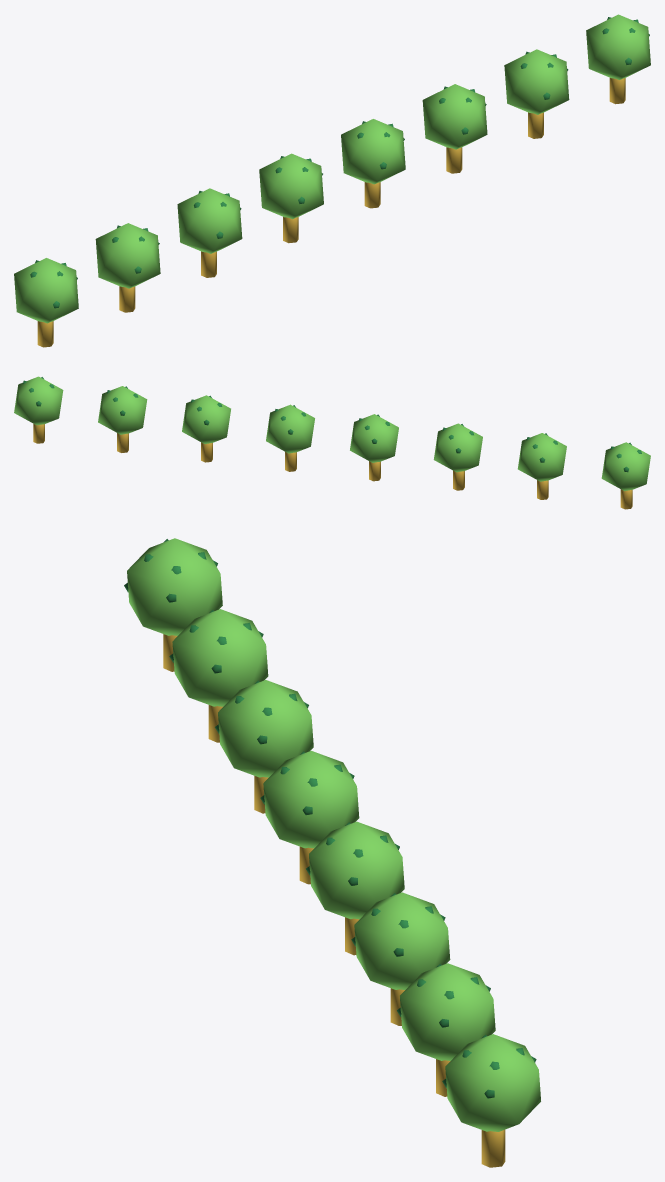
Rendered from 016_イチョウ004.glb.
3 views of the same model, one above another, from view 1: azimuth 30°, elevation 25°; view 2: azimuth 150°, elevation 25°; view 3: azimuth 270°, elevation 25° (orthographic). The views are drawn at different scales.
Parts seen in each view (by area): view 1: 球004_2, 球004, 球004_1; view 2: 球004_2, 球004, 球004_1; view 3: 球004_2, 球004, 球004_1.
Boxes of the visible parts, x1,y1,x2,y2 form: 球004_2: (14, 14, 650, 323); 球004: (37, 78, 625, 347); 球004_1: (30, 17, 649, 308); 球004_2: (14, 376, 650, 491); 球004: (33, 424, 632, 509); 球004_1: (23, 377, 641, 472); 球004_2: (127, 538, 540, 1131); 球004: (163, 634, 505, 1167); 球004_1: (124, 539, 536, 1098).
Bounding box in the file's own units: 14.83 × 1.66 × 4.86.
